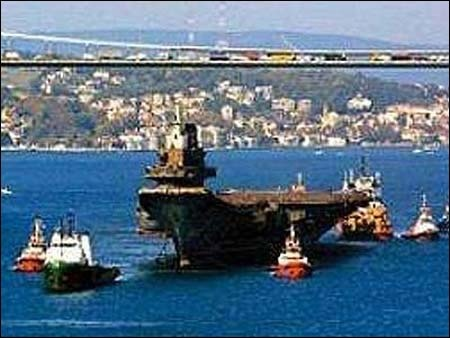otherboat: (36, 197, 124, 294), (392, 190, 441, 253), (12, 214, 53, 275), (269, 227, 314, 278)
warship: (126, 111, 375, 271)
